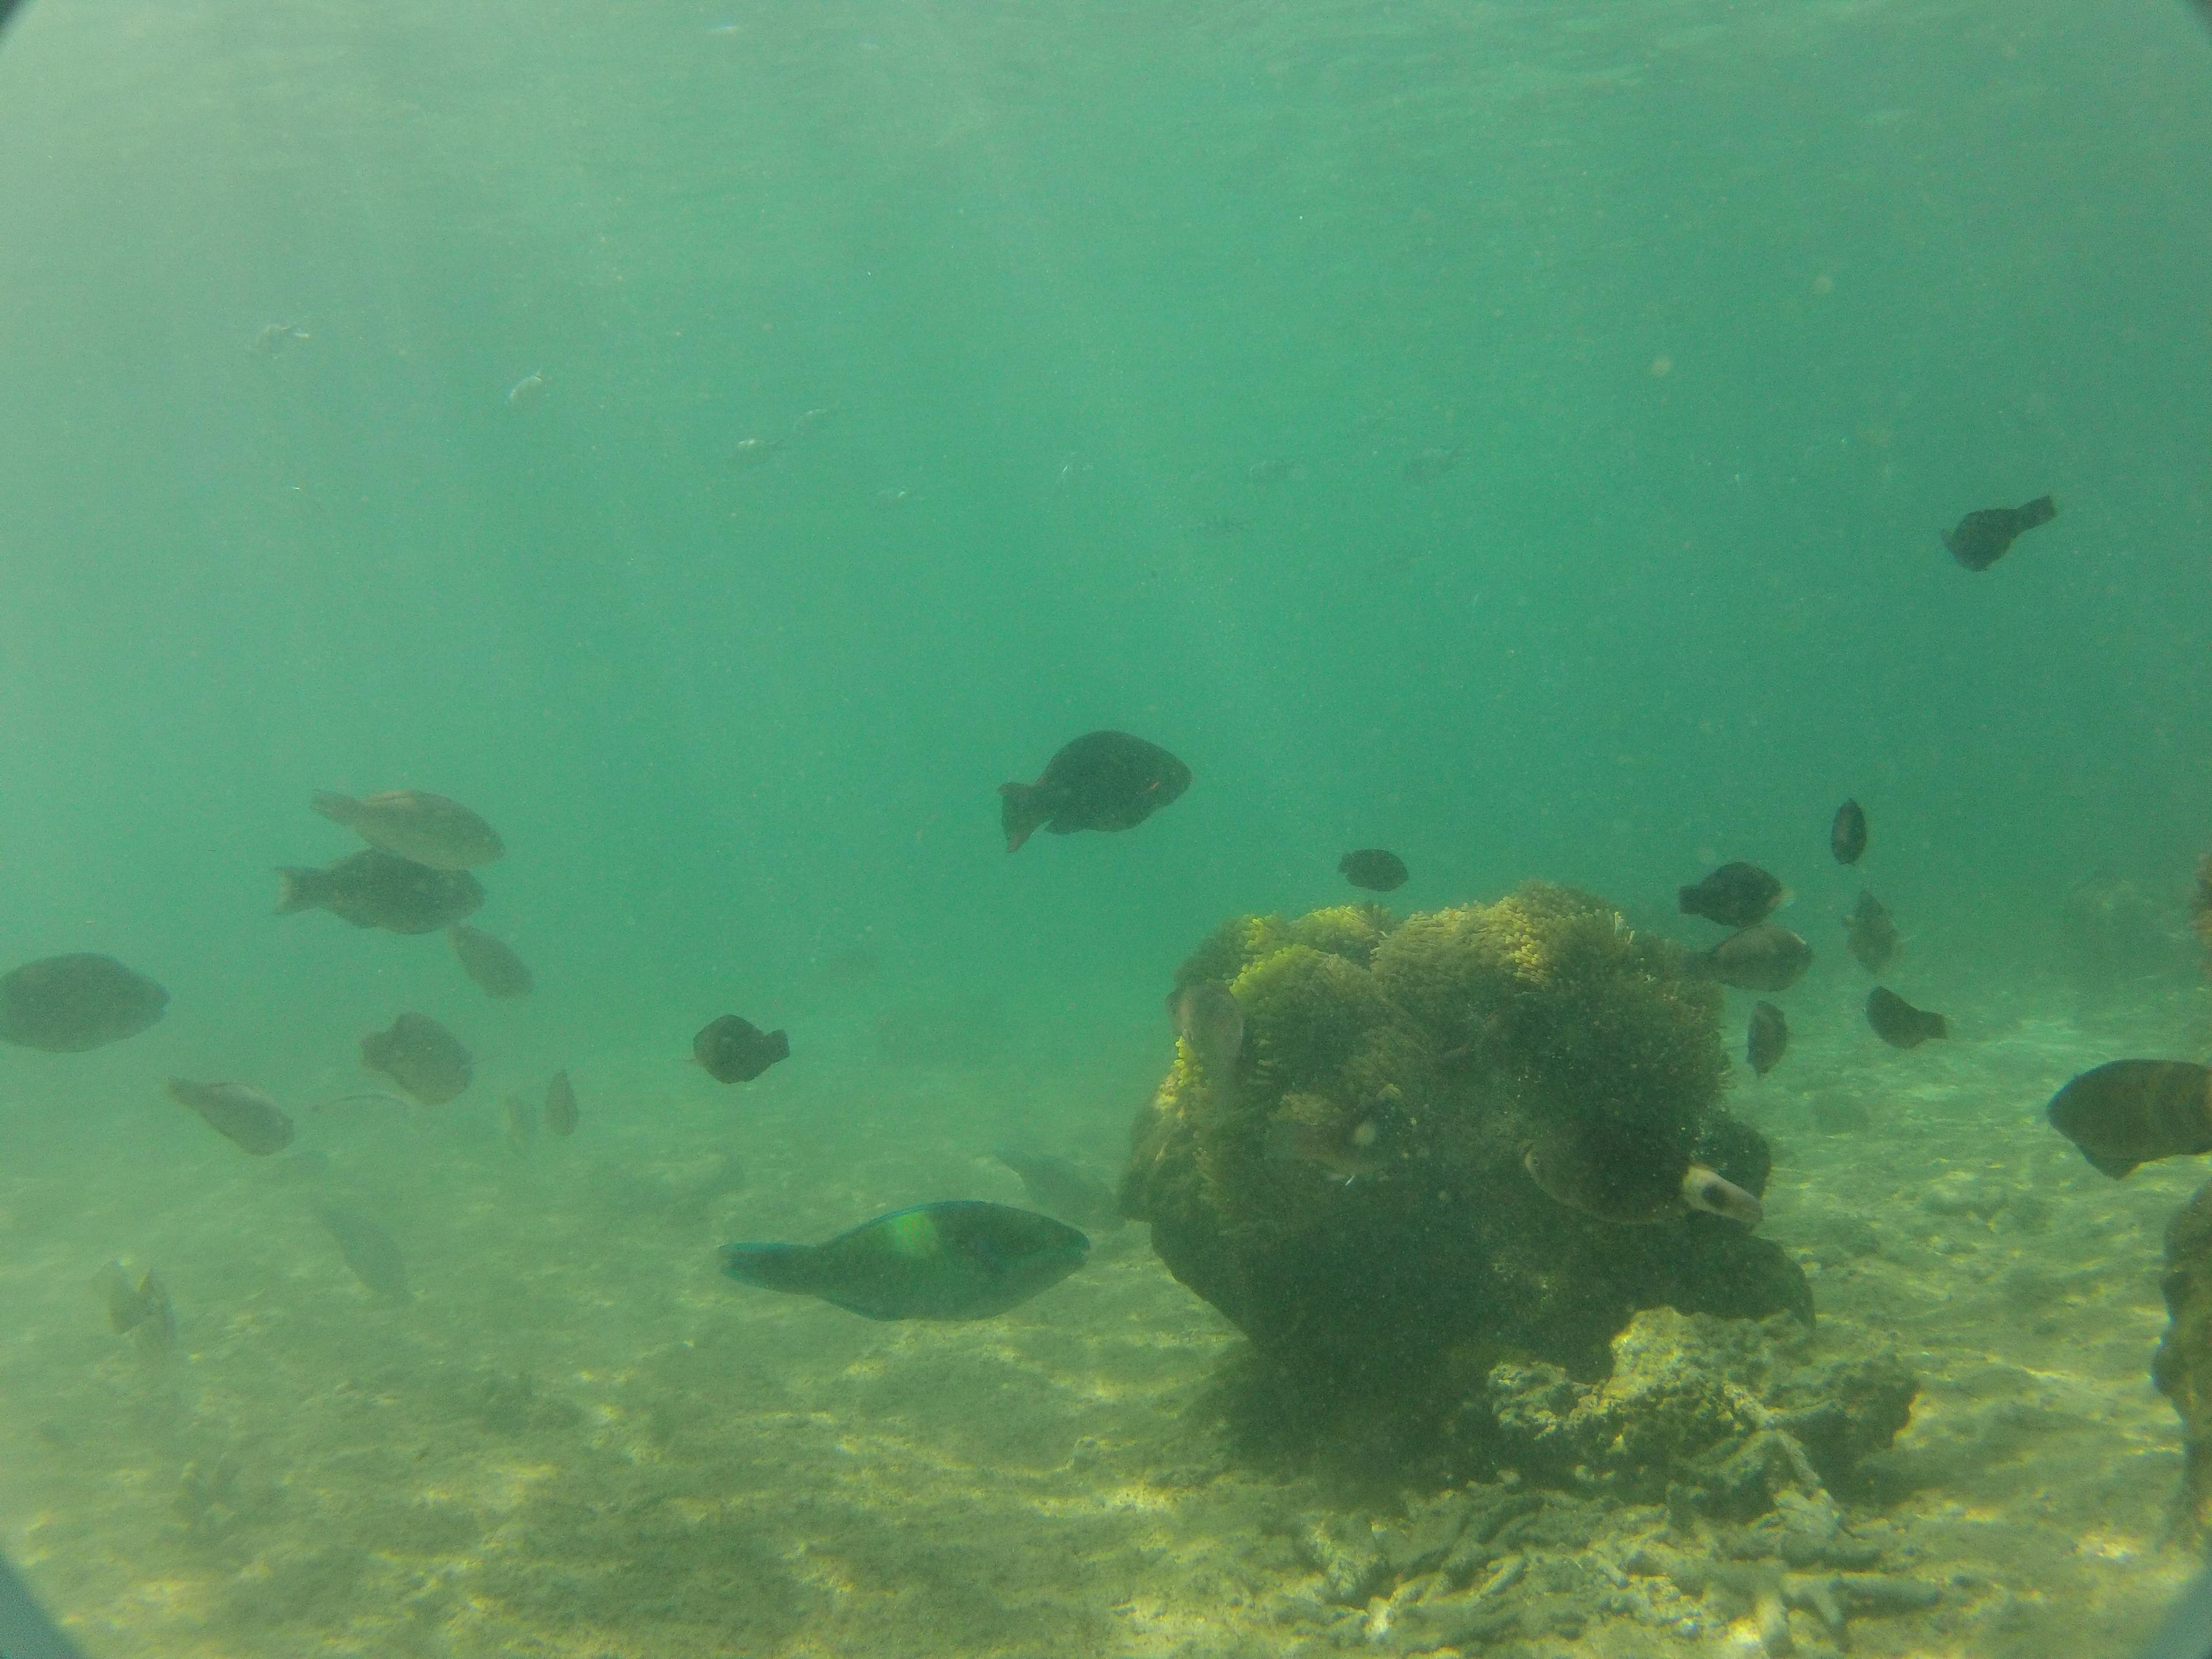Scarus ghobban: (643, 1147, 1169, 1382)
